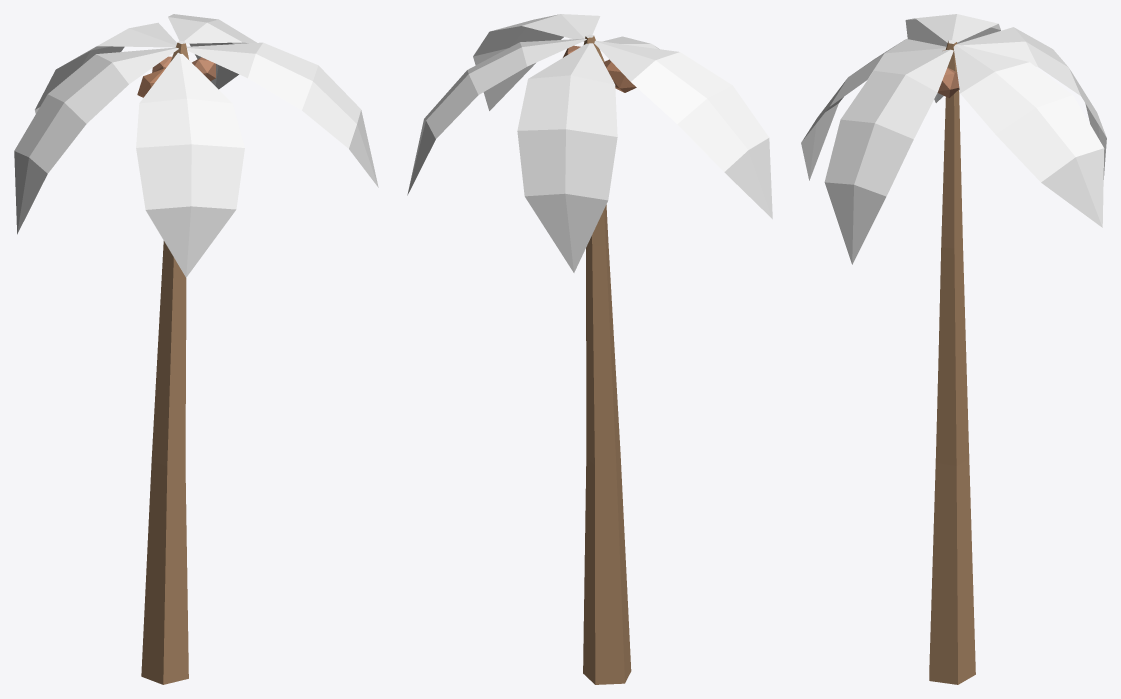
The model's file is Palm_Tree_Coconut_OneSided_s_Snow_01_LOD.fbx.
3 views of the same model, side by side, from view 1: azimuth 30°, elevation 25°; view 2: azimuth 150°, elevation 25°; view 3: azimuth 270°, elevation 25° (orthographic). The views are drawn at different scales.
Visible parts, largest first — view 1: Palm_Tree_Coconut_OneSided_s_Snow_01_LOD0; view 2: Palm_Tree_Coconut_OneSided_s_Snow_01_LOD0; view 3: Palm_Tree_Coconut_OneSided_s_Snow_01_LOD0.
Part boxes in pixels (x1,y1,x2,y2): Palm_Tree_Coconut_OneSided_s_Snow_01_LOD0: [14, 14, 378, 684]; Palm_Tree_Coconut_OneSided_s_Snow_01_LOD0: [407, 14, 772, 684]; Palm_Tree_Coconut_OneSided_s_Snow_01_LOD0: [801, 14, 1106, 684].
Size of what is drawn, in the model's own units: 249 by 465 by 201.
